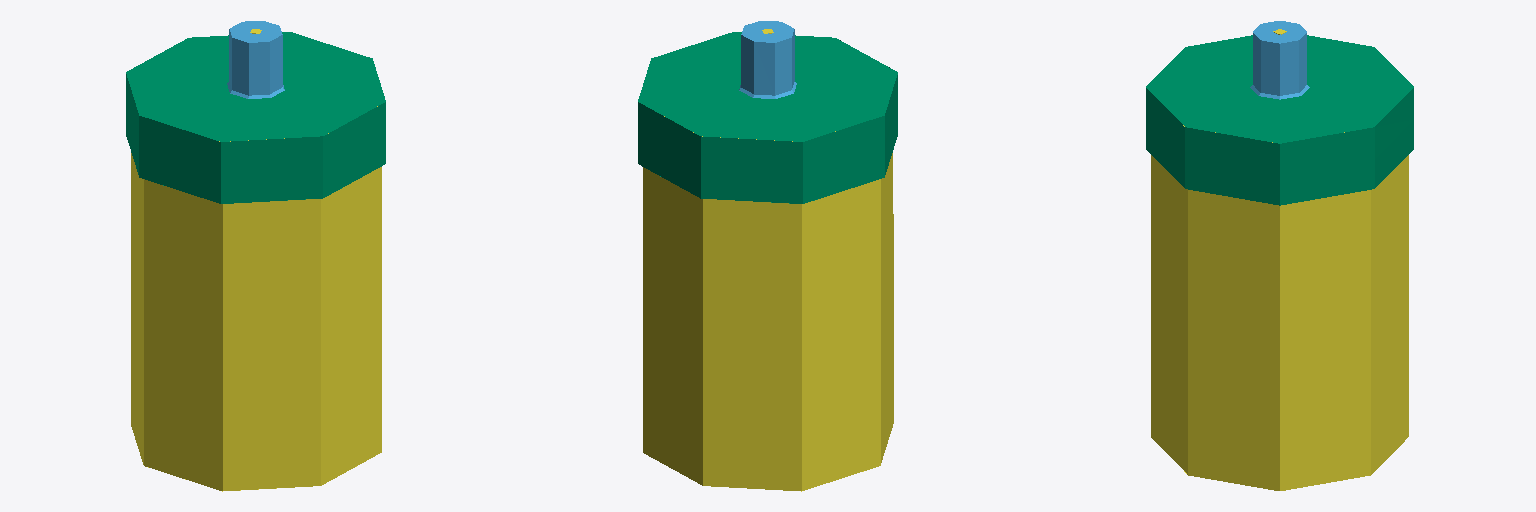
The robot description file, URDF, robot "partnet_5d80c1b5-bbcc-4066-9103-2460992ace27":
<?xml version="1.0" ?>
<robot name="partnet_5d80c1b5-bbcc-4066-9103-2460992ace27">
	<link name="base"/>
	<link name="link_0">
		<visual name="pressing_lid-1">
			<origin xyz="0.002186500000000001 0 0.009778999997167189"/>
			<geometry>
				<mesh filename="textured_objs/original-2.obj"/>
			</geometry>
		</visual>
		<visual name="pressing_lid-1">
			<origin xyz="0.002186500000000001 0 0.009778999997167189"/>
			<geometry>
				<mesh filename="textured_objs/original-8.obj"/>
			</geometry>
		</visual>
		<visual name="pressing_lid-1">
			<origin xyz="0.002186500000000001 0 0.009778999997167189"/>
			<geometry>
				<mesh filename="textured_objs/original-6.obj"/>
			</geometry>
		</visual>
		<collision>
			<origin xyz="0.002186500000000001 0 0.009778999997167189"/>
			<geometry>
				<mesh filename="textured_objs/original-2.obj"/>
			</geometry>
		</collision>
		<collision>
			<origin xyz="0.002186500000000001 0 0.009778999997167189"/>
			<geometry>
				<mesh filename="textured_objs/original-8.obj"/>
			</geometry>
		</collision>
		<collision>
			<origin xyz="0.002186500000000001 0 0.009778999997167189"/>
			<geometry>
				<mesh filename="textured_objs/original-6.obj"/>
			</geometry>
		</collision>
	</link>
	<joint name="joint_0" type="continuous">
		<origin xyz="0.0 0 0.0"/>
		<axis xyz="0 1 0"/>
		<child link="link_0"/>
		<parent link="link_0_helper"/>
	</joint>
	<link name="link_1">
		<visual name="head-3">
			<origin xyz="0.0016189564690488947 0 0.009924500000000003"/>
			<geometry>
				<mesh filename="textured_objs/original-7.obj"/>
			</geometry>
		</visual>
		<collision>
			<origin xyz="0.0016189564690488947 0 0.009924500000000003"/>
			<geometry>
				<mesh filename="textured_objs/original-7.obj"/>
			</geometry>
		</collision>
	</link>
	<joint name="joint_1" type="continuous">
		<origin xyz="0.0 0 0.0"/>
		<axis xyz="0 -1 0"/>
		<child link="link_1"/>
		<parent link="link_1_helper"/>
	</joint>
	<link name="link_2">
		<visual name="base_body-4">
			<origin xyz="0 0 0"/>
			<geometry>
				<mesh filename="textured_objs/original-4.obj"/>
			</geometry>
		</visual>
		<visual name="base_body-4">
			<origin xyz="0 0 0"/>
			<geometry>
				<mesh filename="textured_objs/original-3.obj"/>
			</geometry>
		</visual>
		<visual name="base_body-4">
			<origin xyz="0 0 0"/>
			<geometry>
				<mesh filename="textured_objs/original-9.obj"/>
			</geometry>
		</visual>
		<visual name="base_body-4">
			<origin xyz="0 0 0"/>
			<geometry>
				<mesh filename="textured_objs/original-5.obj"/>
			</geometry>
		</visual>
		<visual name="base_body-4">
			<origin xyz="0 0 0"/>
			<geometry>
				<mesh filename="textured_objs/original-1.obj"/>
			</geometry>
		</visual>
		<collision>
			<origin xyz="0 0 0"/>
			<geometry>
				<mesh filename="textured_objs/original-4.obj"/>
			</geometry>
		</collision>
		<collision>
			<origin xyz="0 0 0"/>
			<geometry>
				<mesh filename="textured_objs/original-3.obj"/>
			</geometry>
		</collision>
		<collision>
			<origin xyz="0 0 0"/>
			<geometry>
				<mesh filename="textured_objs/original-9.obj"/>
			</geometry>
		</collision>
		<collision>
			<origin xyz="0 0 0"/>
			<geometry>
				<mesh filename="textured_objs/original-5.obj"/>
			</geometry>
		</collision>
		<collision>
			<origin xyz="0 0 0"/>
			<geometry>
				<mesh filename="textured_objs/original-1.obj"/>
			</geometry>
		</collision>
	</link>
	<joint name="joint_2" type="fixed">
		<origin rpy="1.570796326794897 0 -1.570796326794897" xyz="0 0 0"/>
		<child link="link_2"/>
		<parent link="base"/>
	</joint>
	<link name="link_0_helper"/>
	<joint name="joint_3" type="prismatic">
		<origin xyz="-0.0005675435309511062 0 0.00014550000283281364"/>
		<axis xyz="0 -1 0"/>
		<child link="link_0_helper"/>
		<parent link="link_1"/>
		<limit lower="0" upper="0.17"/>
	</joint>
	<link name="link_1_helper"/>
	<joint name="joint_4" type="prismatic">
		<origin xyz="-0.0016189564690488947 0 -0.009924500000000003"/>
		<axis xyz="0 1 0"/>
		<child link="link_1_helper"/>
		<parent link="link_2"/>
		<limit lower="0" upper="0.19999999999999996"/>
	</joint>
</robot>

--- Render facts (derived) ---
3 views of the same robot in one strip: view 1: azimuth 30°, elevation 25°; view 2: azimuth 150°, elevation 25°; view 3: azimuth 270°, elevation 25° (orthographic).
Robot: partnet_5d80c1b5-bbcc-4066-9103-2460992ace27 — 6 links, 5 joints (2 continuous, 2 prismatic, 1 fixed); root link base; default pose: every joint at zero.
Visible links, largest first — view 1: link_2, link_1, link_0; view 2: link_2, link_1, link_0; view 3: link_2, link_1, link_0.
Boxes of the visible links, x1,y1,x2,y2 form: link_2: (131,29,381,491); link_1: (126,32,385,203); link_0: (227,21,284,98); link_2: (643,29,893,491); link_1: (638,32,897,203); link_0: (739,21,796,98); link_2: (1151,29,1408,490); link_1: (1146,35,1413,205); link_0: (1250,21,1309,99).
Bounding box of the posed robot: 0.7809 × 0.781 × 1.3 m (x, y, z).
5 mesh visuals loaded from 9 distinct referenced files (5 OBJ); not drawn: 4 (reference not matched to a file when rendering).
